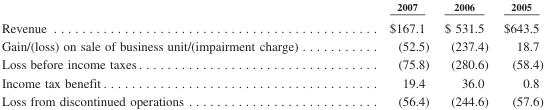table: (0, 0, 542, 107)
table column: (0, 0, 343, 107), (343, 0, 436, 107), (436, 0, 495, 107), (495, 0, 542, 107)
table column header: (0, 0, 542, 16)
table row: (0, 16, 542, 36), (0, 36, 542, 55), (0, 55, 542, 73), (0, 73, 542, 91), (0, 0, 542, 16), (0, 91, 542, 107)
